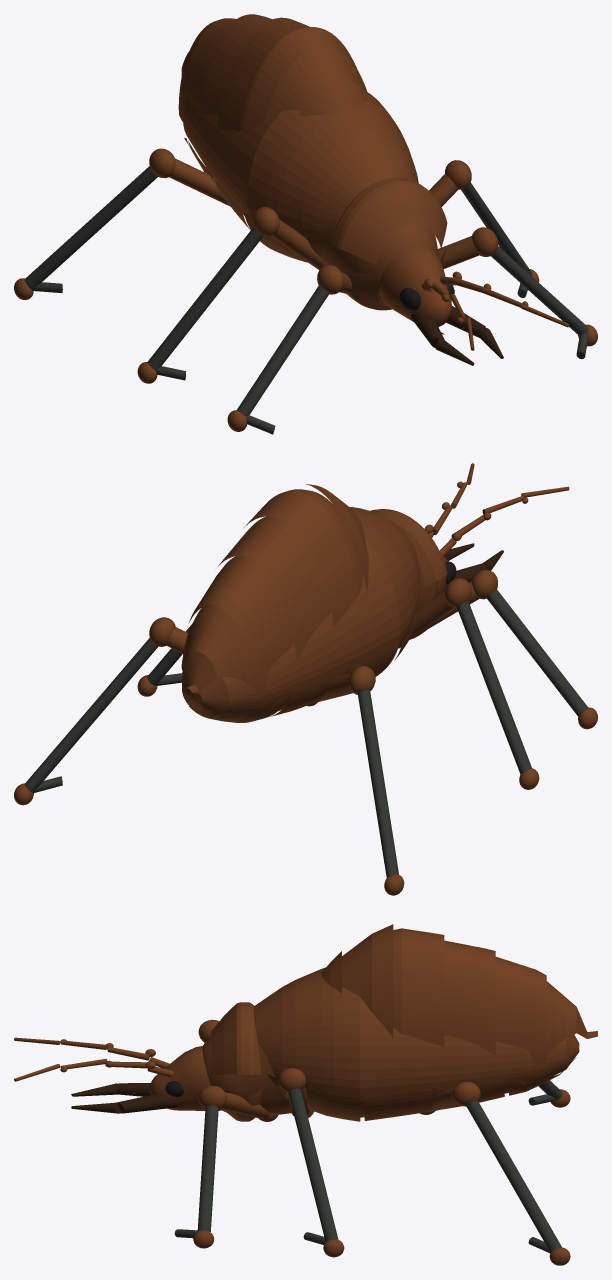
File: worker_beetle.glb
The picture shows the model from 3 angles, top to bottom: view 1: azimuth 30°, elevation 25°; view 2: azimuth 150°, elevation 25°; view 3: azimuth 270°, elevation 25°; orthographic projection. The views are drawn at different scales.
Parts seen in each view (by area): view 1: BeetleBodyInner, BeetlePlate_01, BeetleNeckTop, BeetlePlate_02, HeadBase001, BeetlePlate_03, ThoraxCore001, Tibia008, Tibia011, Tibia007, BeetlePlate_04, BeetlePlate_00 (+12 smaller); view 2: BeetleBodyInner, BeetlePlate_04, BeetlePlate_03, BeetlePlate_02, BeetlePlate_05, Tibia011, Tibia009, Tibia008, Tibia007, BeetleNeckTop, BeetlePlate_01, BeetleSternite_03 (+7 smaller); view 3: BeetleBodyInner, BeetlePlate_02, BeetlePlate_03, BeetlePlate_04, BeetlePlate_01, BeetleNeckTop, Tibia009, ThoraxCore001, HeadBase001, Tibia010, BeetleSternite_02, BeetlePlate_05 (+10 smaller).
Boxes of the visible parts, box(x1,y1,x2,y2) form: BeetleBodyInner: box(182, 91, 418, 239); BeetlePlate_01: box(241, 27, 367, 138); BeetleNeckTop: box(332, 177, 447, 264); BeetlePlate_02: box(217, 17, 309, 131); HeadBase001: box(379, 245, 451, 326); BeetlePlate_03: box(195, 14, 272, 118); ThoraxCore001: box(321, 209, 438, 306); Tibia008: box(147, 227, 263, 370); Tibia011: box(24, 166, 157, 289); Tibia007: box(237, 285, 328, 416); BeetlePlate_04: box(178, 18, 235, 121); BeetlePlate_00: box(298, 78, 368, 116); BeetleBodyInner: box(182, 507, 420, 716); BeetlePlate_04: box(187, 556, 294, 699); BeetlePlate_03: box(218, 516, 331, 659); BeetlePlate_02: box(244, 489, 363, 626); BeetlePlate_05: box(181, 604, 254, 692); Tibia011: box(358, 690, 398, 877); Tibia009: box(24, 638, 158, 792); Tibia008: box(457, 601, 531, 774); Tibia007: box(487, 589, 587, 716); BeetleNeckTop: box(370, 509, 447, 585); BeetlePlate_01: box(306, 484, 368, 593); BeetleSternite_03: box(270, 667, 346, 716); BeetleBodyInner: box(254, 967, 579, 1117); BeetlePlate_02: box(393, 928, 444, 1046); BeetlePlate_03: box(444, 940, 495, 1054); BeetlePlate_04: box(495, 956, 546, 1069); BeetlePlate_01: box(342, 924, 393, 1037); BeetleNeckTop: box(211, 1002, 261, 1075); Tibia009: box(466, 1101, 561, 1252); ThoraxCore001: box(202, 1036, 292, 1114); HeadBase001: box(150, 1046, 221, 1110); Tibia010: box(288, 1088, 338, 1241); BeetleSternite_02: box(364, 1087, 432, 1120); BeetlePlate_05: box(546, 981, 597, 1055).
Bounding box in the file's own units: 3.3 × 2.35 × 4.8.
